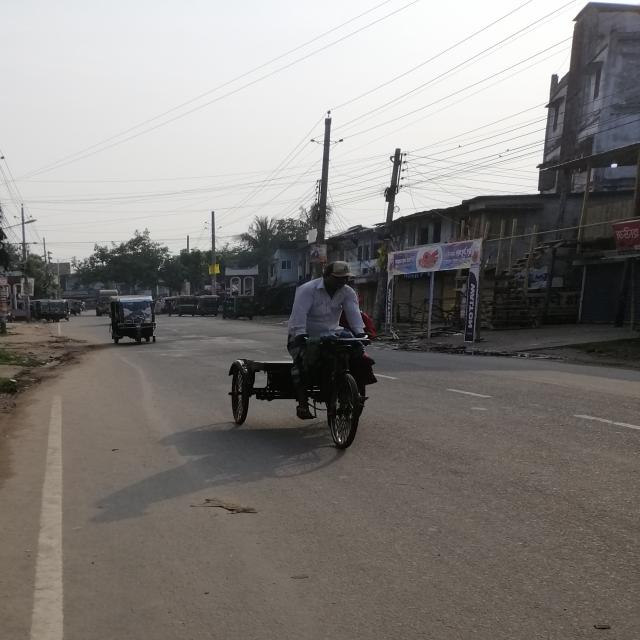Van: (210, 349, 403, 454)
